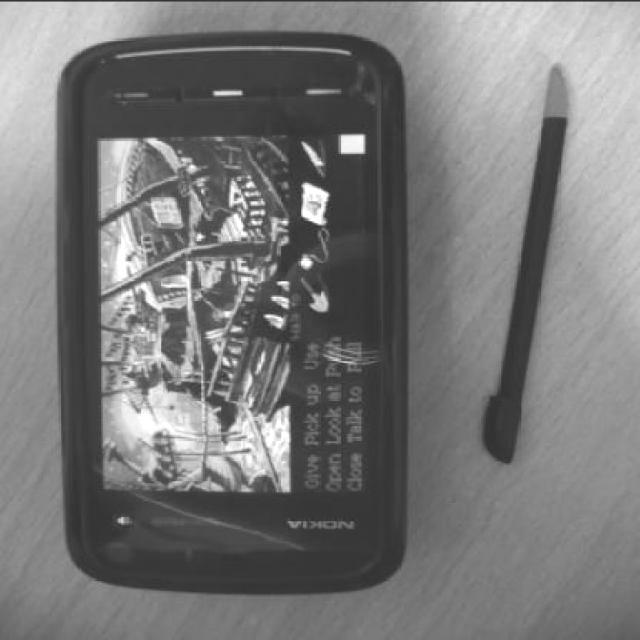fake: (34, 50, 404, 616)
